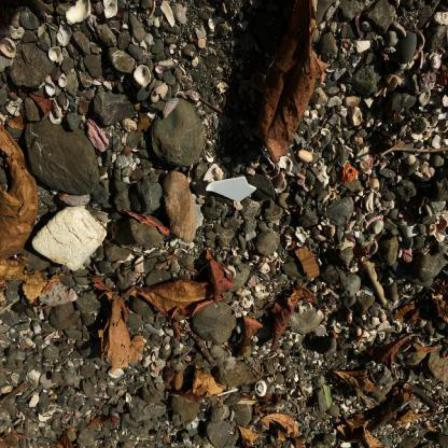Other plastic: (207, 177, 258, 203), (219, 389, 243, 398), (256, 381, 268, 397)
Styrofoam piece: (33, 206, 109, 273)
